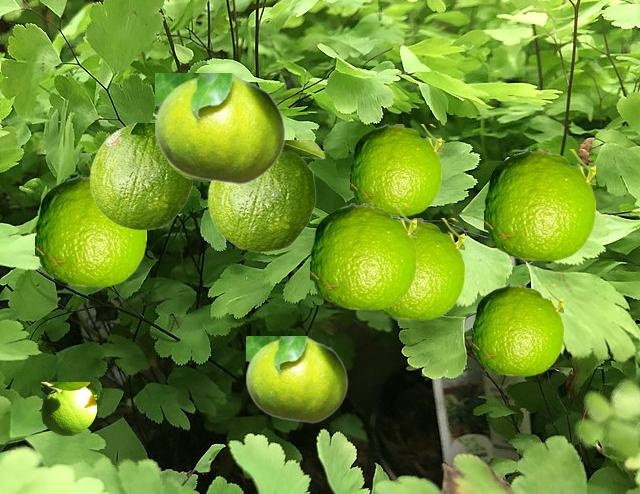dalandan: (155, 73, 285, 184), (207, 140, 324, 251), (484, 149, 594, 260), (35, 175, 145, 286), (310, 203, 415, 309), (89, 123, 193, 229), (376, 218, 463, 319), (246, 336, 347, 422), (472, 284, 562, 375), (350, 124, 440, 215), (41, 382, 95, 434)
